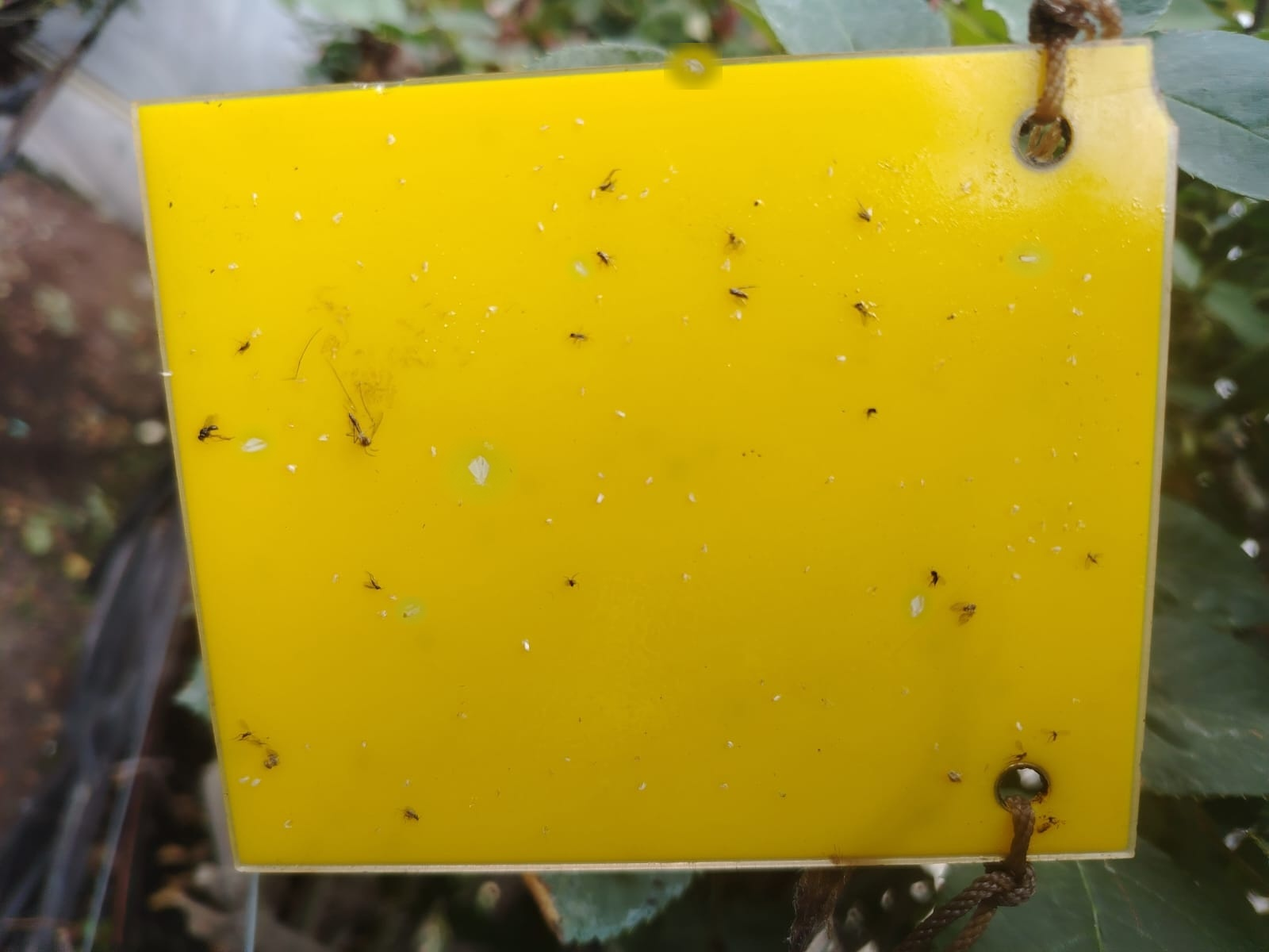WF: (450, 447, 506, 495), (673, 49, 713, 83), (237, 428, 270, 456), (1012, 246, 1046, 272), (905, 590, 928, 620), (399, 600, 422, 620), (569, 257, 590, 278), (1007, 571, 1025, 585), (719, 258, 734, 274), (481, 440, 497, 455), (1065, 352, 1079, 368), (960, 182, 974, 198), (286, 463, 301, 476), (639, 187, 652, 202), (332, 213, 346, 226), (282, 820, 297, 831), (386, 133, 398, 146), (293, 209, 305, 222), (1082, 273, 1095, 285), (1051, 545, 1065, 556), (1014, 720, 1025, 734), (523, 638, 532, 655), (597, 492, 607, 507), (615, 194, 631, 203), (238, 774, 251, 785), (588, 189, 599, 202), (421, 261, 432, 274), (688, 491, 698, 505), (251, 779, 265, 789), (160, 371, 175, 380), (1010, 504, 1022, 515), (700, 543, 711, 555), (720, 781, 731, 793), (1004, 543, 1016, 554), (682, 572, 692, 585), (317, 434, 330, 444), (638, 782, 649, 793), (487, 305, 498, 316), (250, 192, 261, 203), (615, 410, 627, 420), (596, 471, 608, 481), (409, 274, 421, 284), (835, 355, 848, 364), (736, 310, 744, 324), (645, 476, 656, 486), (576, 118, 587, 128), (430, 445, 439, 457), (1071, 697, 1083, 706), (538, 221, 546, 234), (1028, 536, 1037, 547), (228, 263, 240, 271), (727, 741, 737, 750), (546, 516, 554, 527), (552, 202, 560, 213), (826, 167, 834, 178), (773, 695, 782, 704), (362, 739, 369, 750), (805, 565, 812, 576), (405, 779, 413, 788), (391, 596, 399, 604), (661, 178, 671, 184), (565, 757, 573, 763), (920, 479, 926, 487), (669, 165, 674, 172), (673, 171, 680, 175)
